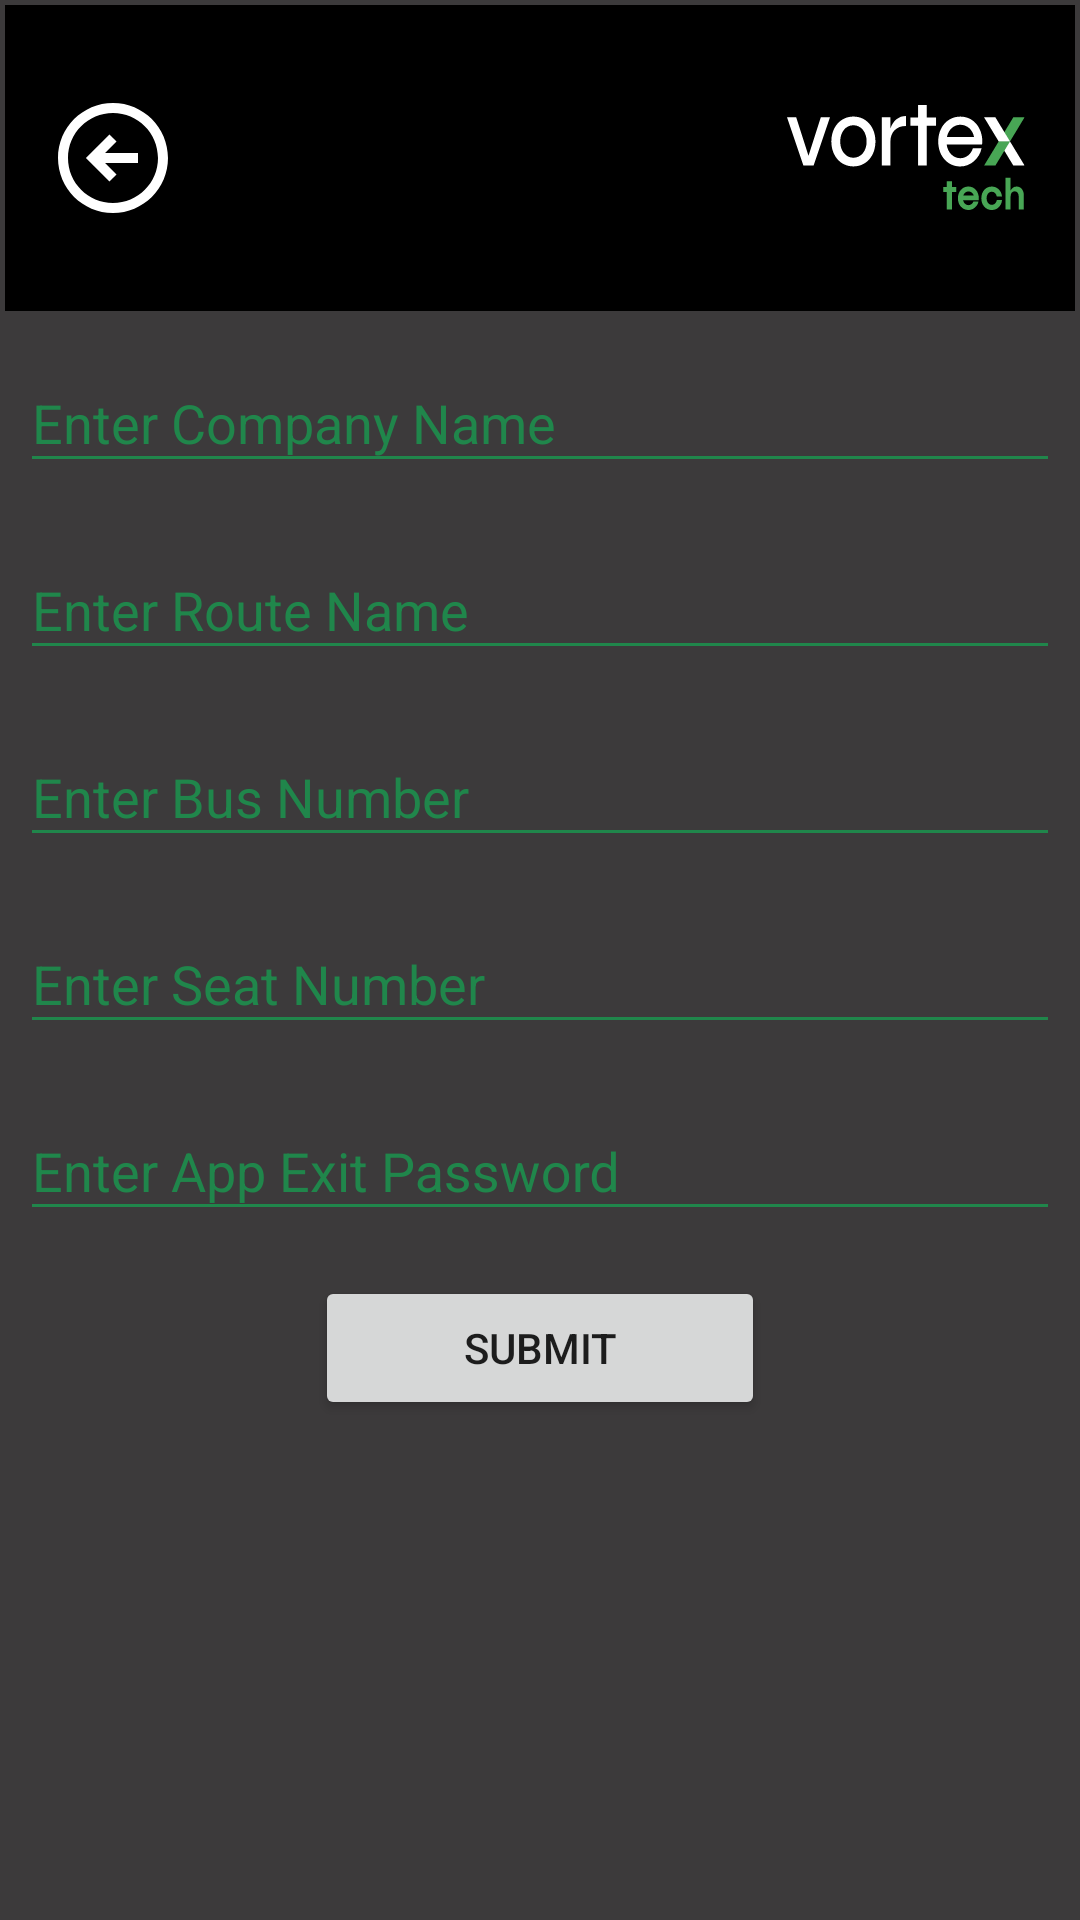

Icons on this 1080px x 1920px Android screen, each with its box as [x1,y1,x2,y2]:
circle arrow left: [58,103,168,213]
